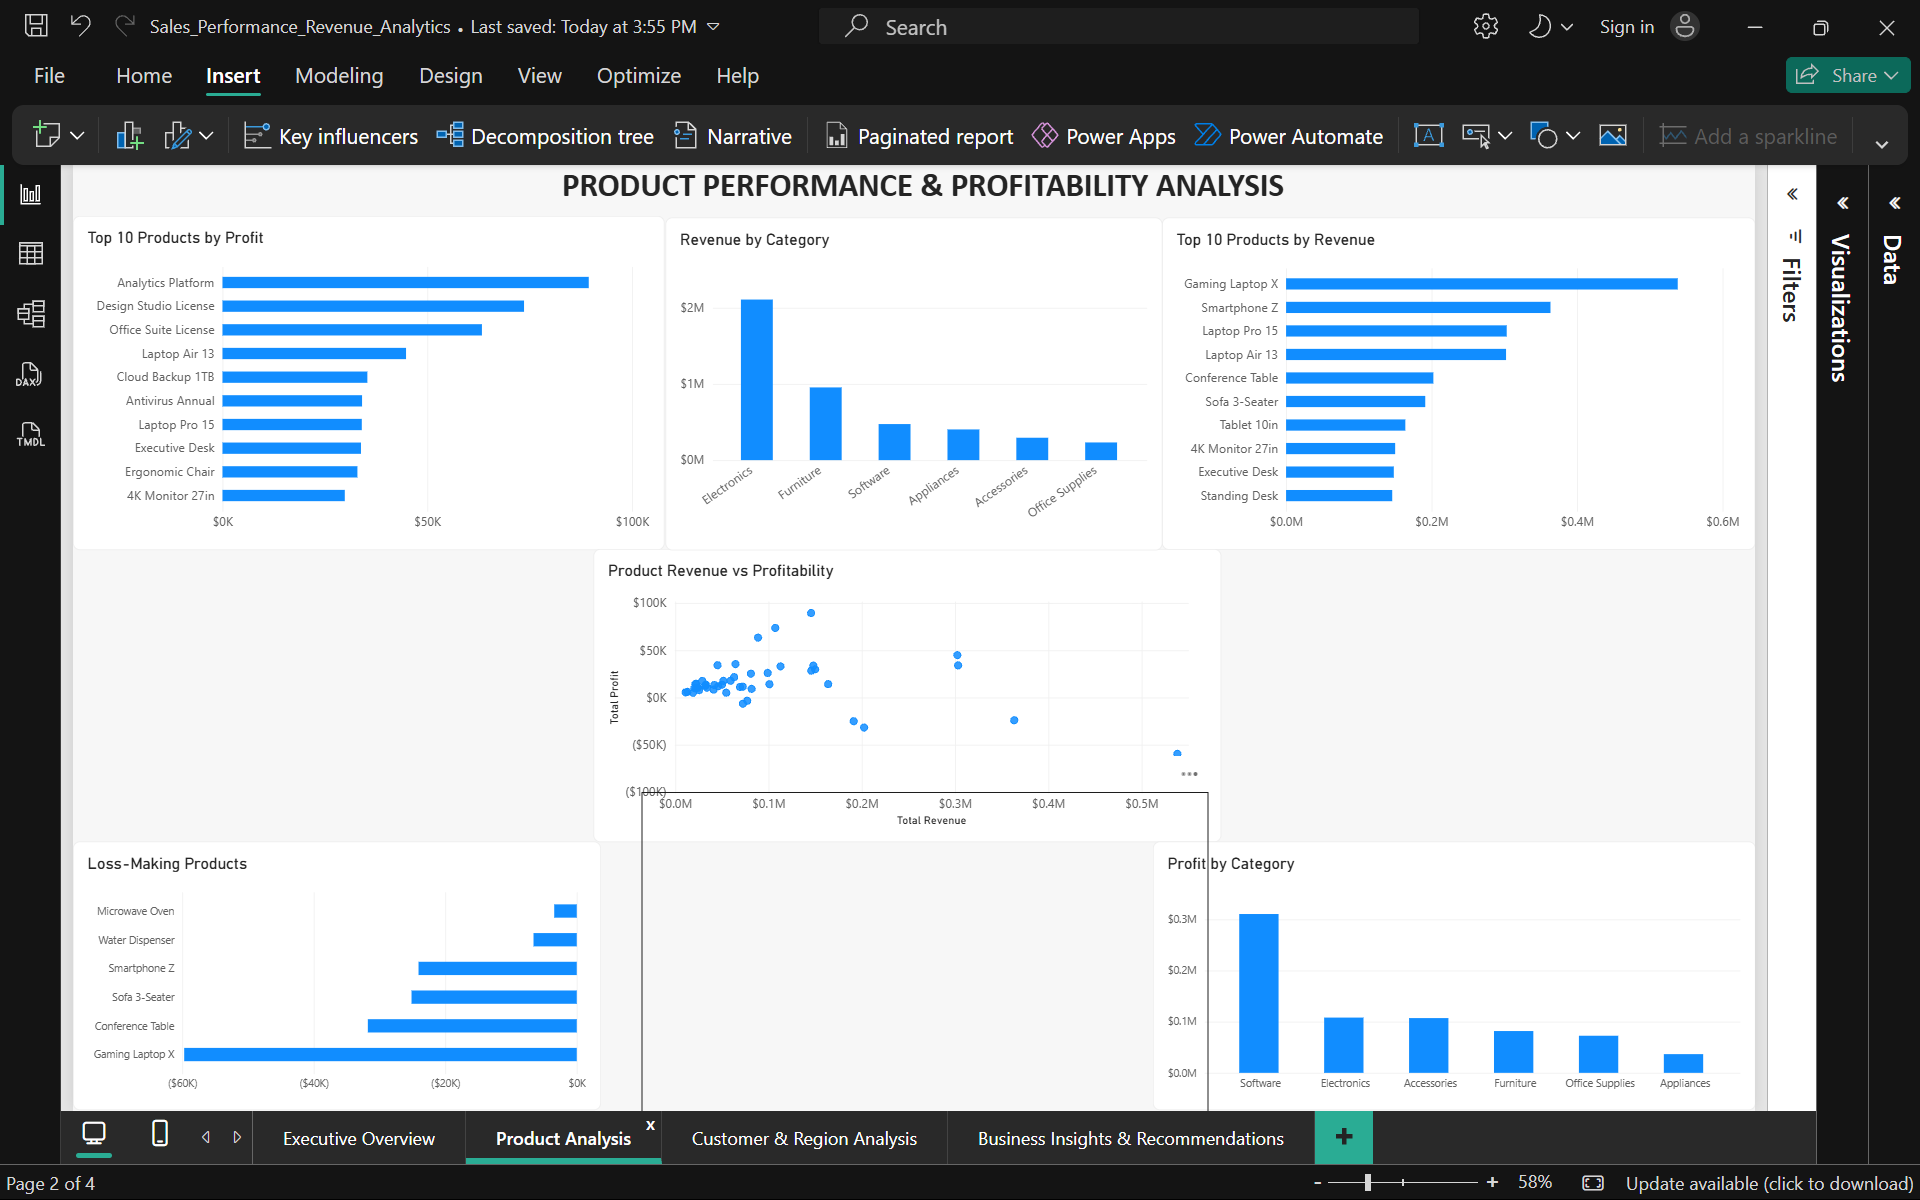

The dashboard page shown, as its layout file describes it:
{"tool":"powerbi","page":{"name":"Product Analysis","canvas":[1920,1080],"ordinal":1},"visuals":[{"type":"clusteredBarChart","title":"Top 10 Products by Revenue","fields":{"Category":["sales_data.Product"],"Y":["sales_data.Total Revenue"]},"box":[1243.3,59.2,677.3,379.6],"z":0},{"type":"clusteredBarChart","title":"Top 10 Products by Profit","fields":{"Category":["sales_data.Product"],"Y":["sales_data.Total Profit"]},"box":[0,57.5,675.6,381.3],"z":1000},{"type":"scatterChart","title":"Product Revenue vs Profitability","fields":{"Category":["sales_data.Product"],"X":["sales_data.Total Revenue"],"Y":["sales_data.Total Profit"]},"box":[593.8,438.8,716.4,334.4],"z":2000},{"type":"clusteredBarChart","title":"Loss-Making Products","fields":{"Category":["sales_data.Product"],"Y":["sales_data.Total Profit"]},"box":[0,773.1,602.5,306.5],"z":3000},{"type":"clusteredColumnChart","title":"Revenue by Category","fields":{"Category":["sales_data.Category"],"Y":["sales_data.Total Revenue"]},"box":[675.6,59.2,567.2,380.3],"z":4000},{"type":"clusteredColumnChart","title":"Profit by Category","fields":{"Category":["sales_data.Category"],"Y":["sales_data.Total Profit"]},"box":[1232.8,773.1,687.8,306.5],"z":5000},{"type":"textbox","box":[649,716,648,364],"z":6000},{"type":"textbox","box":[558.3,0,829.5,52.5],"z":7000}]}

Visuals, with their boxes on the page's 1920x1080 design canvas (x1, y1, x2, y2). These are canvas units, not pixel positions in the 1920x1200 screenshot, which may show the page scaled, cropped or inside an application window:
"Top 10 Products by Revenue" clusteredBarChart: bbox=(1243, 59, 1921, 439)
"Top 10 Products by Profit" clusteredBarChart: bbox=(0, 58, 676, 439)
"Product Revenue vs Profitability" scatterChart: bbox=(594, 439, 1310, 773)
"Loss-Making Products" clusteredBarChart: bbox=(0, 773, 602, 1080)
"Revenue by Category" clusteredColumnChart: bbox=(676, 59, 1243, 440)
"Profit by Category" clusteredColumnChart: bbox=(1233, 773, 1921, 1080)
textbox: bbox=(649, 716, 1297, 1080)
textbox: bbox=(558, 0, 1388, 52)
